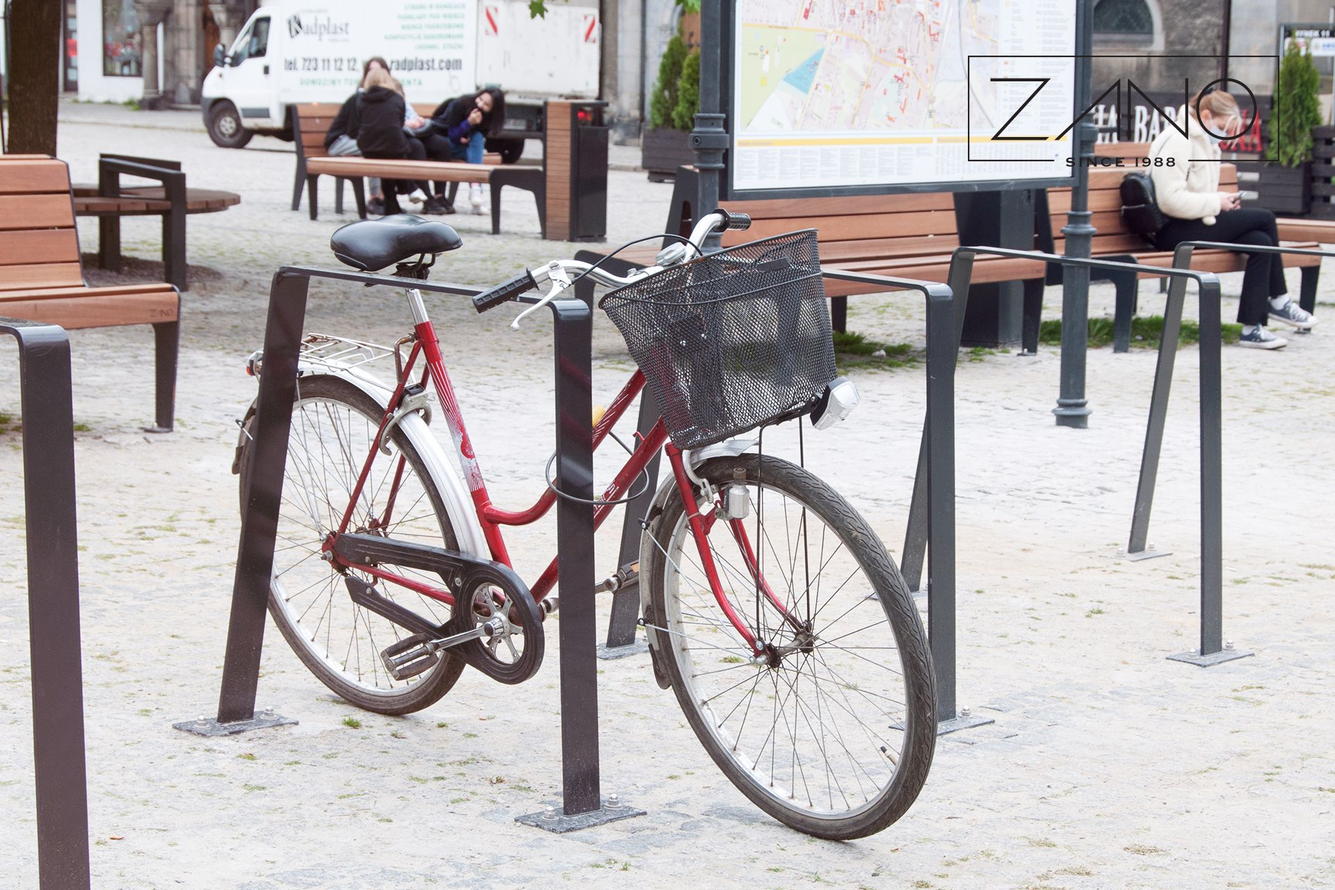Bicycle: (212, 221, 957, 843)
